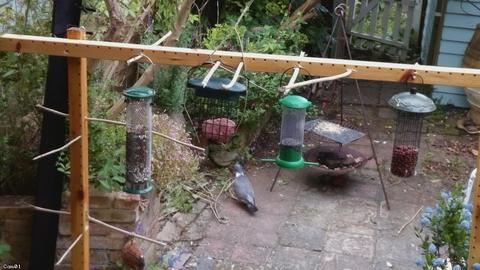wood pigeon: (232, 164, 259, 213)
